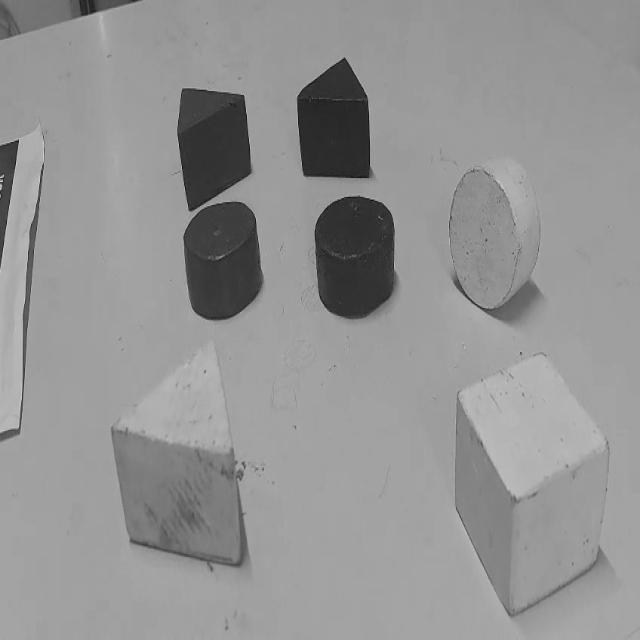bcircle: (314, 194, 396, 319)
btriangle: (296, 59, 370, 181), (299, 57, 366, 102)
rcube: (184, 201, 262, 322)
rtriangle: (176, 87, 252, 212)
ycircle: (448, 156, 540, 310)
ycube: (454, 351, 608, 616)
ytriangle: (111, 338, 245, 565)
